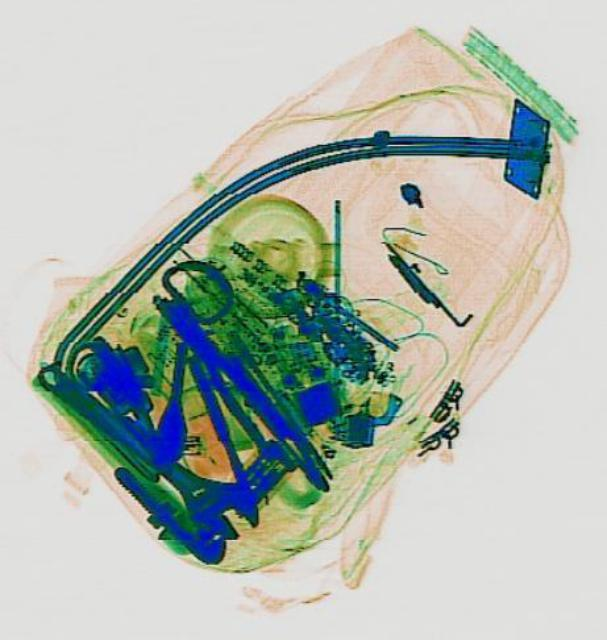Wrench: (21, 336, 270, 554)
